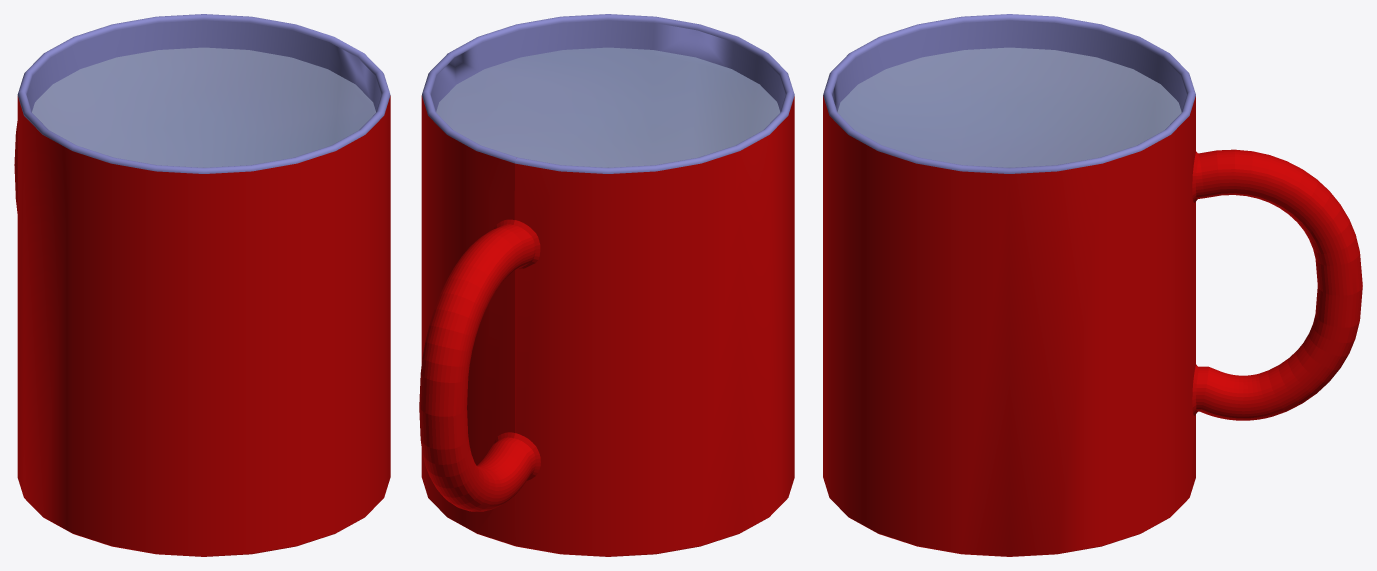
3 renders of one model, left to right at view 1: azimuth 30°, elevation 25°; view 2: azimuth 150°, elevation 25°; view 3: azimuth 270°, elevation 25°, orthographic.
Visible parts, largest first — view 1: mesh6_mesh6-geometry, mesh6_mesh6-geometry_1, mesh7_mesh7-geometry; view 2: mesh6_mesh6-geometry, mesh6_mesh6-geometry_1, mesh7_mesh7-geometry; view 3: mesh6_mesh6-geometry, mesh6_mesh6-geometry_1, mesh7_mesh7-geometry.
Part boxes in pixels (x1,y1,x2,y2): mesh6_mesh6-geometry: (14,95,390,556); mesh6_mesh6-geometry_1: (17,14,390,173); mesh7_mesh7-geometry: (32,47,375,167); mesh6_mesh6-geometry: (419,95,794,556); mesh6_mesh6-geometry_1: (422,14,794,173); mesh7_mesh7-geometry: (436,47,780,167); mesh6_mesh6-geometry: (823,95,1362,556); mesh6_mesh6-geometry_1: (823,14,1195,173); mesh7_mesh7-geometry: (837,47,1181,167).
Bounding box in the file's own units: 0.4759 × 0.5468 × 0.6889.
9 materials, 1 textured.
